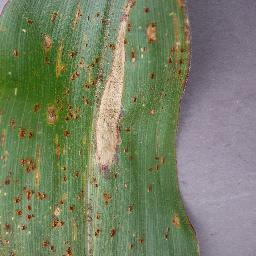Corn_Blight: (44, 191, 112, 255), (91, 67, 129, 168), (1, 154, 50, 213), (167, 0, 198, 90), (104, 0, 140, 66), (41, 33, 103, 66), (48, 2, 103, 29), (57, 138, 90, 181), (64, 67, 91, 117), (1, 212, 32, 255), (90, 170, 120, 195), (46, 117, 78, 137), (172, 216, 202, 237), (32, 95, 63, 115), (8, 117, 36, 139), (146, 18, 160, 47), (147, 154, 169, 172), (124, 234, 145, 250), (20, 14, 36, 25), (130, 92, 142, 105), (107, 226, 118, 240), (146, 105, 158, 116), (146, 183, 156, 194), (10, 48, 20, 59), (149, 70, 158, 81), (163, 226, 168, 243), (125, 204, 137, 211), (143, 4, 151, 12)
